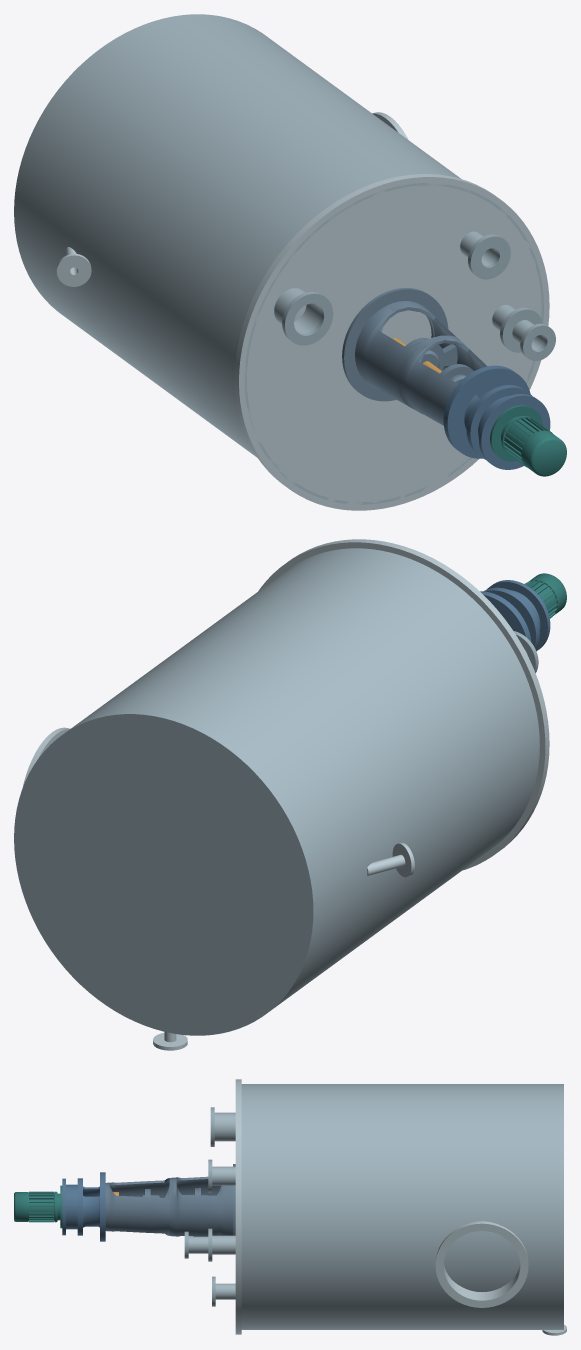
3 views of the same model, one above another, from view 1: azimuth 30°, elevation 25°; view 2: azimuth 150°, elevation 25°; view 3: azimuth 270°, elevation 25° (orthographic). The views are drawn at different scales.
Visible parts, largest first — view 1: 本体_筒壳, 槽盖_盖板, 支架_06_Tapered_window_frame_with_bored_seats, 驱动_01_Motor, 支架_06_Frame_foot, 驱动_02_Base_flange_top, 驱动_02_Upper_mount_flange, 接口_顶盖法兰01, 接口_顶盖法兰03, 接口_顶盖接管01, 驱动_02_Middle_flange_top, 接口_顶盖法兰05 (+2 smaller); view 2: 本体_筒壳, 本体_平底, 槽盖_盖板, 驱动_02_Upper_mount_flange, 驱动_01_Motor, 驱动_02_Middle_flange_bottom; view 3: 本体_筒壳, 支架_06_Tapered_window_frame_with_bored_seats, 接口_东侧大口法兰, 槽盖_盖板, 驱动_01_Motor, 接口_顶盖接管01, 接口_东侧大口接管, 驱动_02_Upper_housing, 驱动_02_Lower_housing_1, 接口_顶盖接管03, 接口_顶盖接管04, 接口_顶盖接管05 (+1 smaller).
Boxes of the visible parts, <box> form: 本体_筒壳: <box>14,14,543,504</box>; 槽盖_盖板: <box>234,174,549,510</box>; 支架_06_Tapered_window_frame_with_bored_seats: <box>355,301,486,425</box>; 驱动_01_Motor: <box>490,405,566,476</box>; 支架_06_Frame_foot: <box>342,287,448,401</box>; 驱动_02_Base_flange_top: <box>445,367,530,458</box>; 驱动_02_Upper_mount_flange: <box>478,394,550,469</box>; 接口_顶盖法兰01: <box>282,291,333,345</box>; 接口_顶盖法兰03: <box>468,234,510,279</box>; 接口_顶盖接管01: <box>274,288,321,333</box>; 驱动_02_Middle_flange_top: <box>468,386,531,459</box>; 接口_顶盖法兰05: <box>520,323,555,360</box>; 本体_筒壳: <box>14,548,539,1035</box>; 本体_平底: <box>16,716,310,1032</box>; 槽盖_盖板: <box>258,539,549,870</box>; 驱动_02_Upper_mount_flange: <box>487,580,550,651</box>; 驱动_01_Motor: <box>529,573,566,616</box>; 驱动_02_Middle_flange_bottom: <box>484,589,537,647</box>; 本体_筒壳: <box>241,1084,563,1329</box>; 支架_06_Tapered_window_frame_with_bored_seats: <box>105,1176,232,1236</box>; 接口_东侧大口法兰: <box>435,1222,528,1307</box>; 槽盖_盖板: <box>235,1079,241,1334</box>; 驱动_01_Motor: <box>14,1185,62,1228</box>; 接口_顶盖接管01: <box>214,1112,235,1141</box>; 接口_东侧大口接管: <box>443,1221,520,1298</box>; 驱动_02_Upper_housing: <box>66,1184,77,1229</box>; 驱动_02_Lower_housing_1: <box>83,1196,99,1227</box>; 接口_顶盖接管03: <box>212,1166,235,1185</box>; 接口_顶盖接管04: <box>212,1235,235,1254</box>; 接口_顶盖接管05: <box>188,1236,208,1253</box>.
Bounding box in the file's own units: 1.74 × 1.61 × 3.37.
